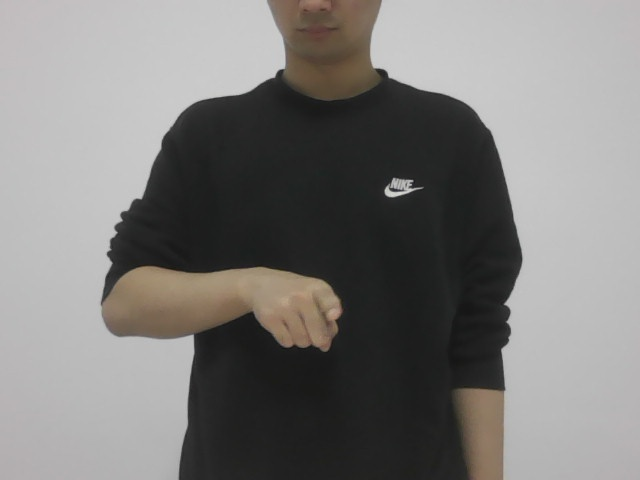you/your/this: (234, 264, 351, 352)
